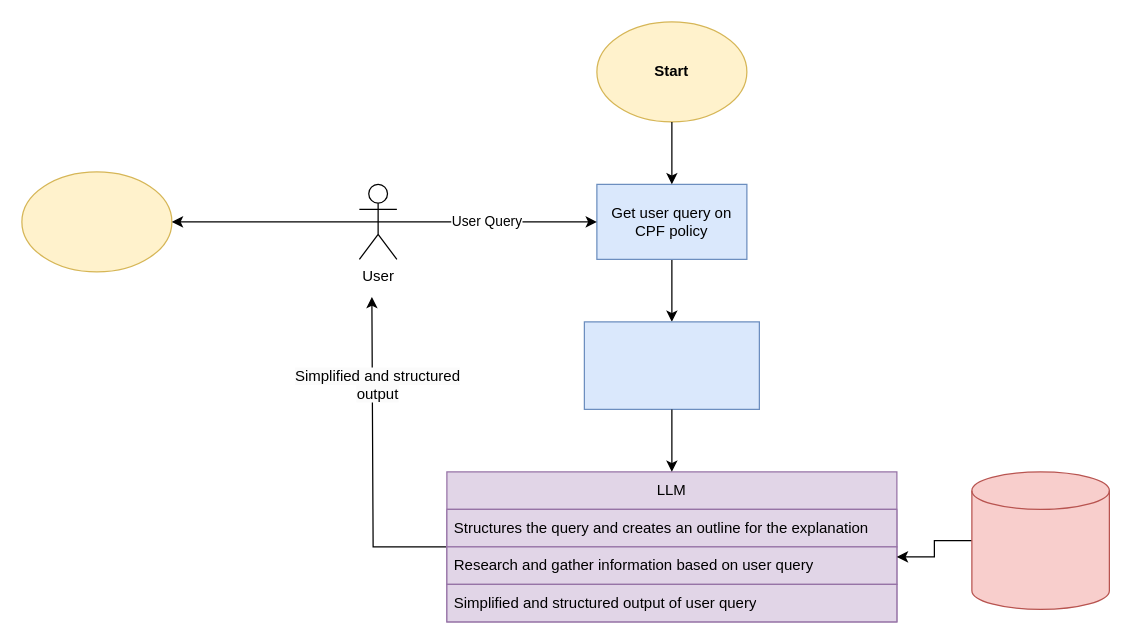
Image size: 1131x644. Some labels were removed from this diagram. The shapes that lost their labels are listed below. From the top down, each one's centre as x and y in pixels, then its label:
At point 96,221: "End".
At point 671,365: "Input Sanitization and Handling".
At point 1040,540: "Data Sources (Websites)".
